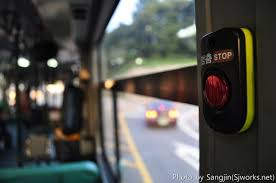bell: (198, 25, 258, 136)
